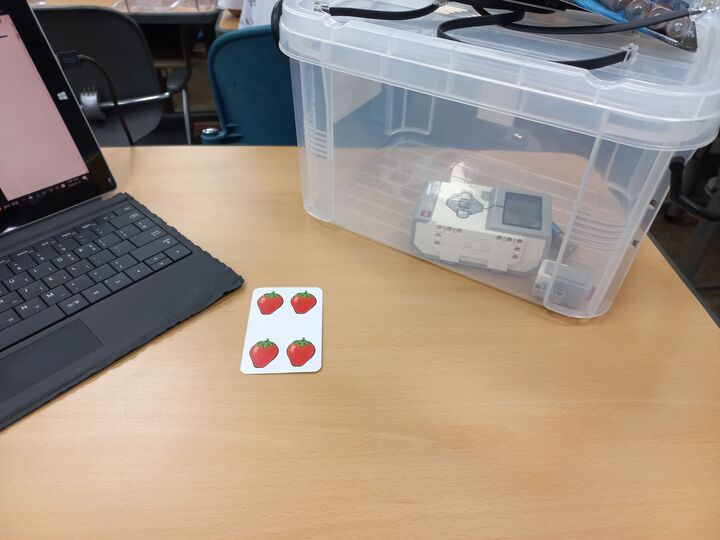strawberry4: (240, 285, 324, 375)
